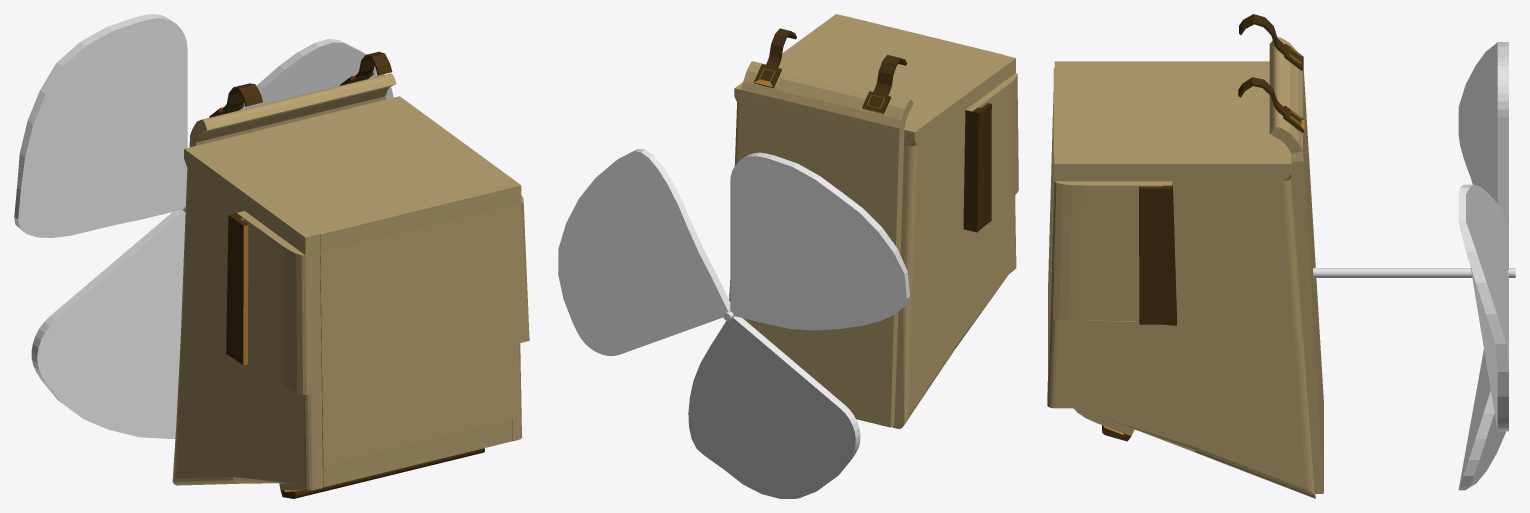
File: propeller.fbx
The picture shows the model from 3 angles, left to right: view 1: azimuth 30°, elevation 25°; view 2: azimuth 150°, elevation 25°; view 3: azimuth 270°, elevation 25°; orthographic projection. The views are drawn at different scales.
Visible parts, largest first — view 1: Cube.003, Cube, Cube.001, Cube.006, Cube.002; view 2: Cube, Cube.003, Cube.001, Cube.006, Cube.002; view 3: Cube.003, Cube, Cube.001, Cube.006, Cube.002, Cylinder.
Boxes of the visible parts, x1=… form: Cube.003: x1=172, y1=96, x2=529, y2=490; Cube: x1=14, y1=14, x2=393, y2=438; Cube.001: x1=189, y1=73, x2=396, y2=147; Cube.006: x1=226, y1=213, x2=484, y2=498; Cube.002: x1=209, y1=51, x2=392, y2=117; Cube: x1=558, y1=149, x2=909, y2=498; Cube.003: x1=729, y1=14, x2=1018, y2=428; Cube.001: x1=737, y1=61, x2=913, y2=427; Cube.006: x1=963, y1=103, x2=991, y2=232; Cube.002: x1=753, y1=28, x2=907, y2=114; Cube.003: x1=1047, y1=61, x2=1315, y2=498; Cube: x1=1458, y1=42, x2=1508, y2=490; Cube.001: x1=1269, y1=37, x2=1323, y2=494; Cube.006: x1=1102, y1=183, x2=1176, y2=441; Cube.002: x1=1238, y1=14, x2=1304, y2=132; Cylinder: x1=1313, y1=268, x2=1515, y2=277.
Bounding box in the file's own units: 4.18 × 4.39 × 4.5.
